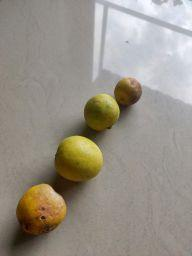lemon: (17, 183, 67, 236), (53, 136, 104, 182), (85, 95, 120, 132), (114, 77, 141, 107)
